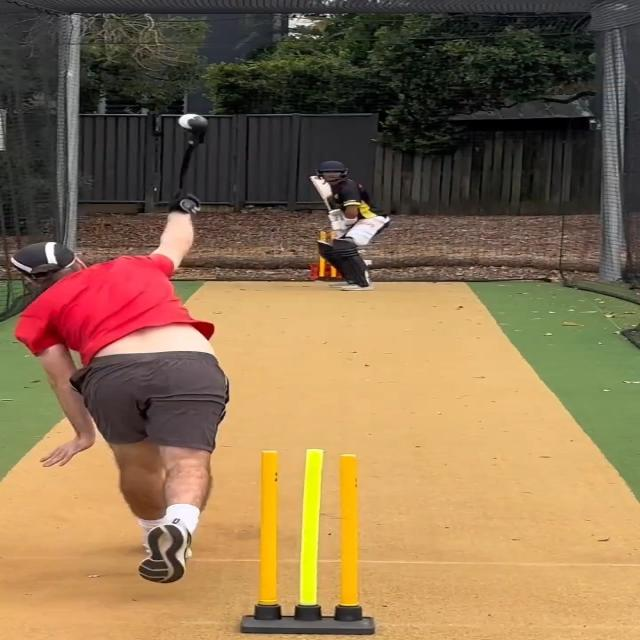stump: (236, 447, 374, 634)
